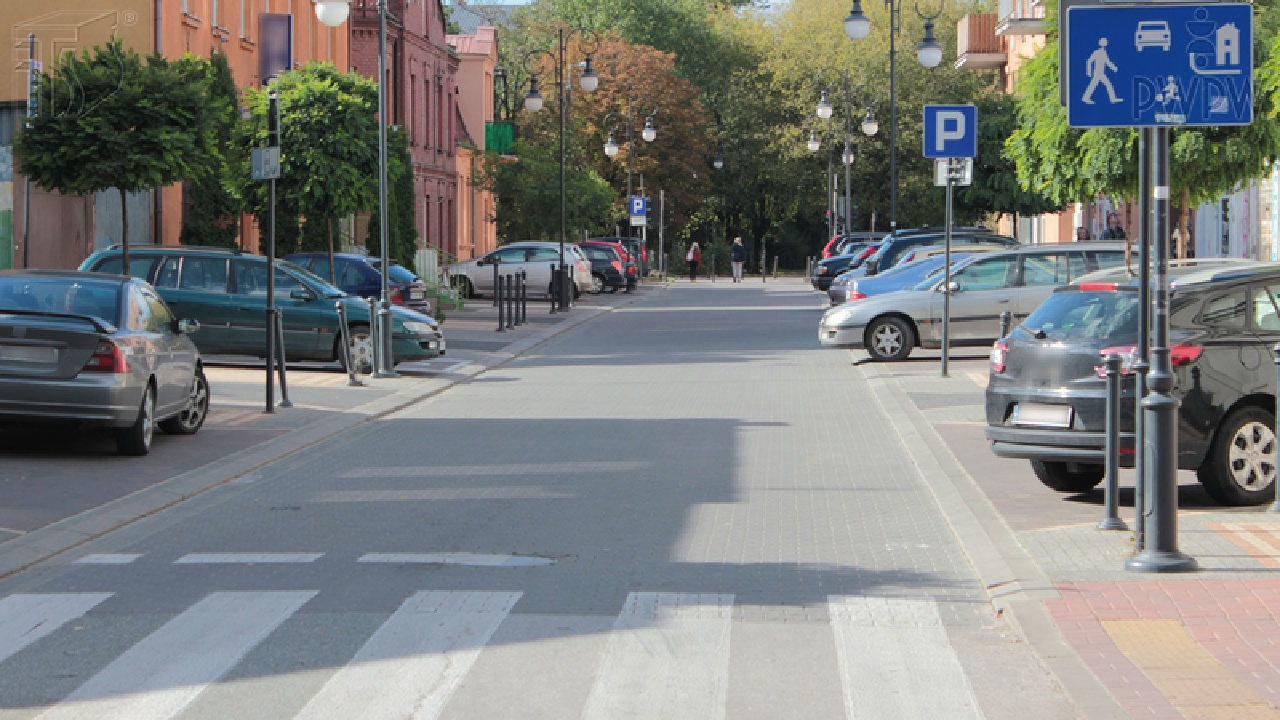D18: (924, 105, 976, 157)
D40: (1060, 2, 1258, 130)
